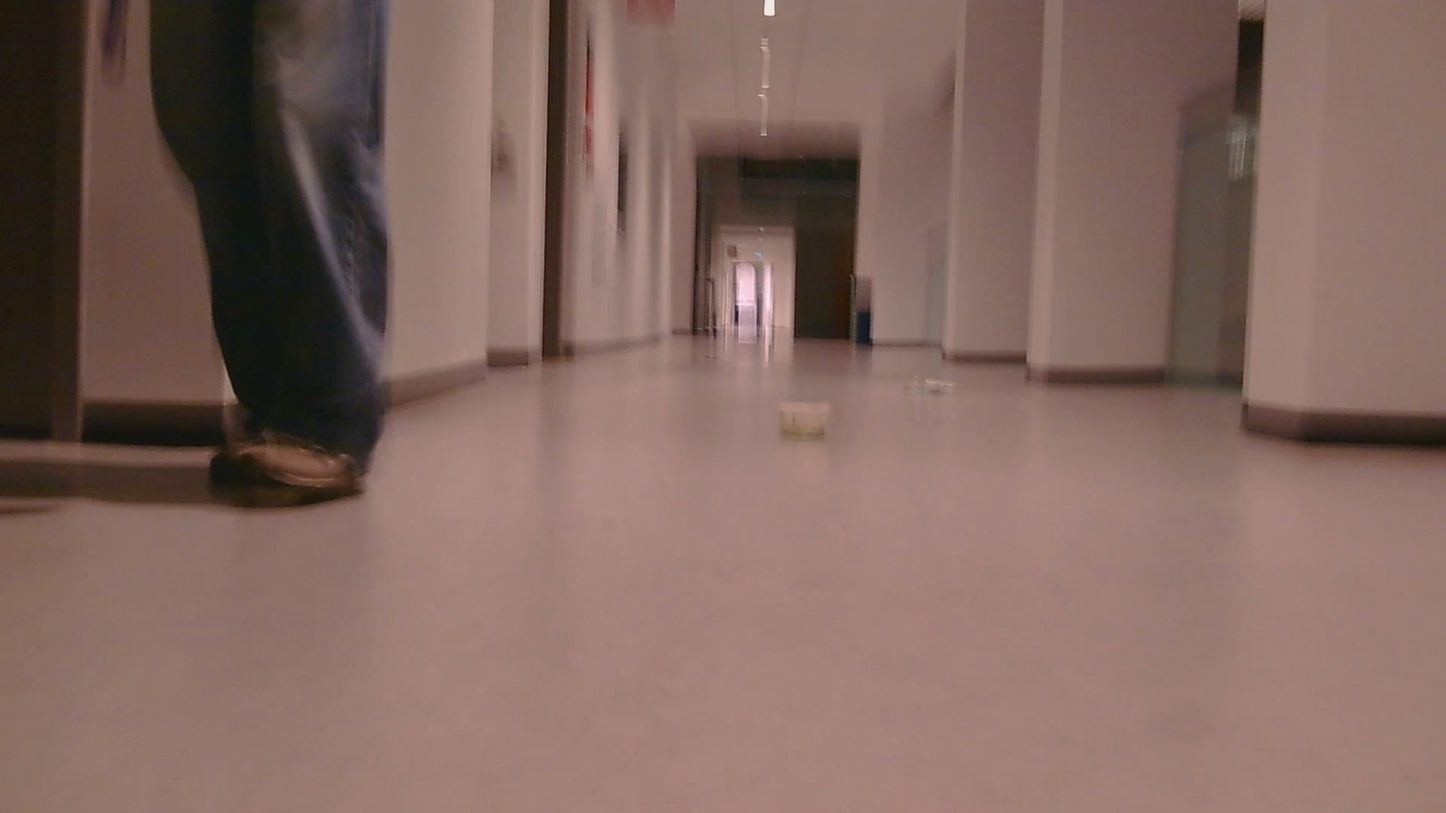carton: (773, 391, 843, 440), (910, 369, 964, 393)
